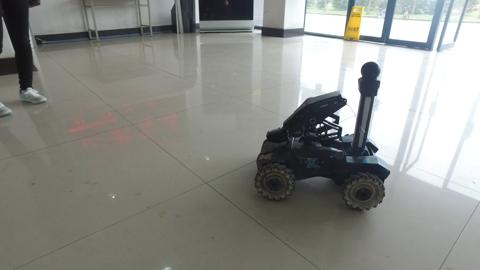chariot: (253, 60, 391, 211)
